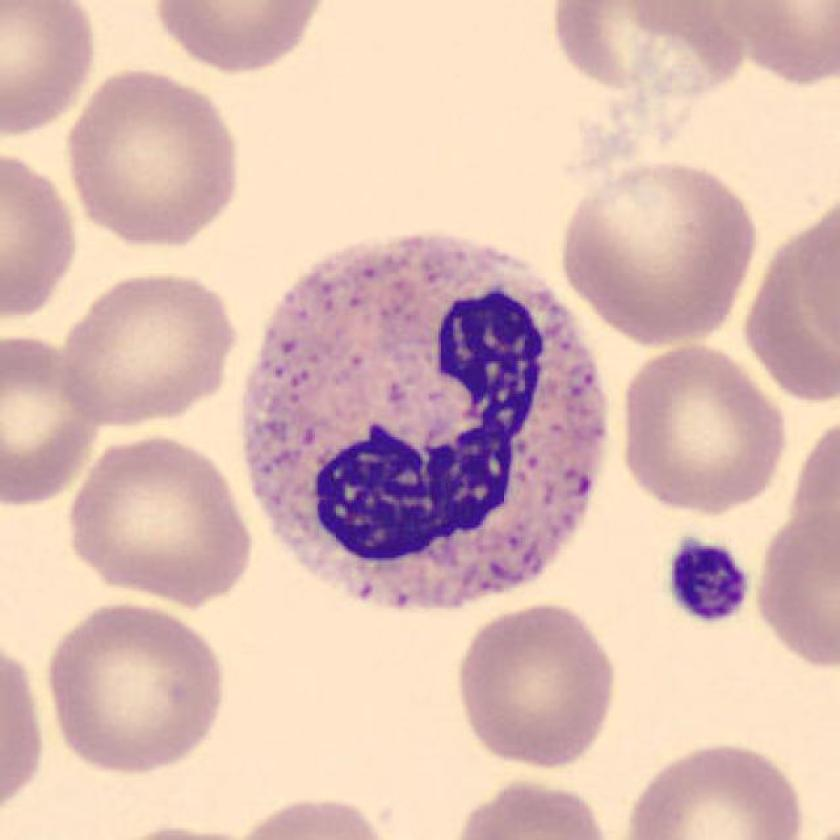neutrophil: (237, 238, 606, 604)
